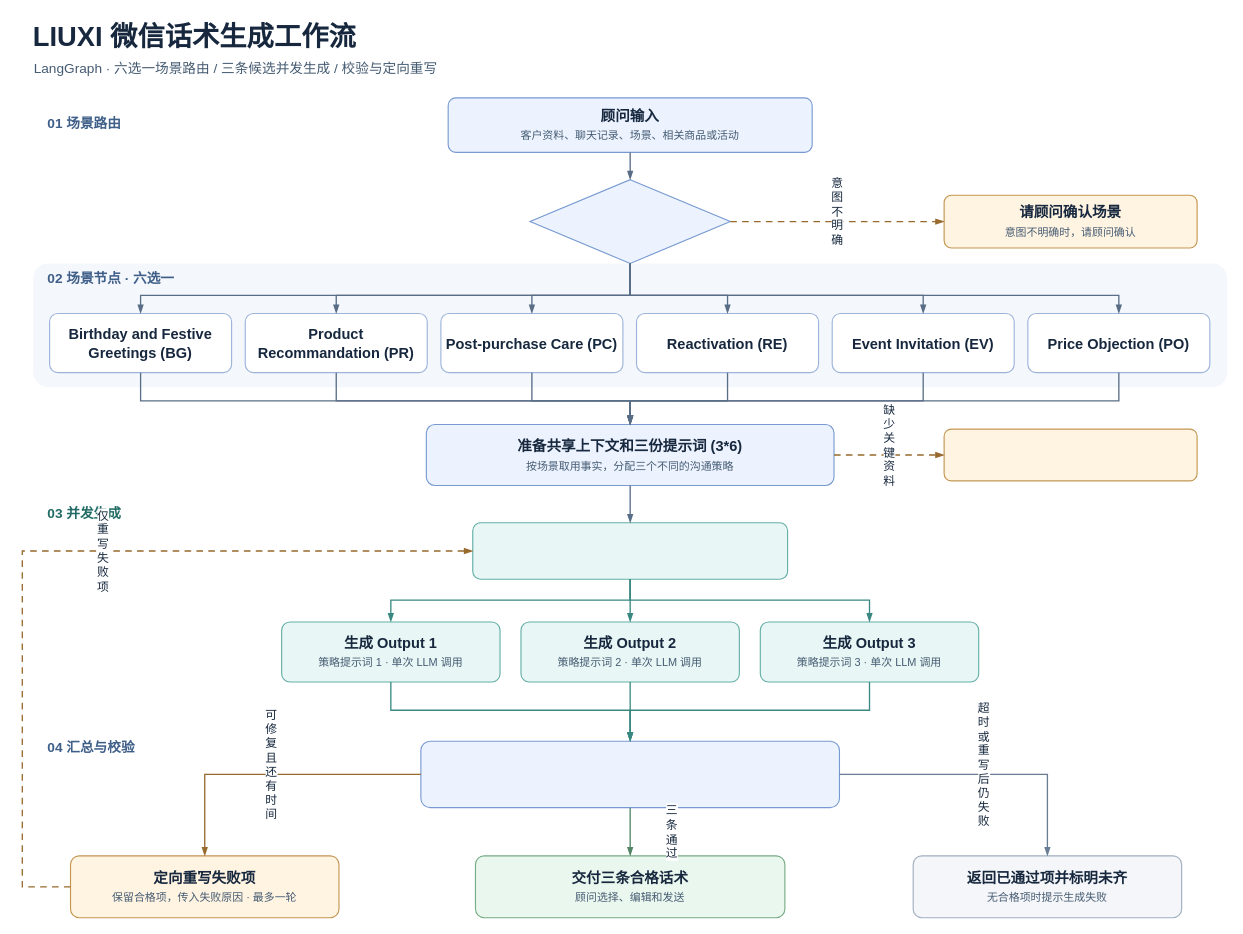
The diagram is 1243 pixels wide and 934 high, and some of its shapes have lost their labels. The centre of each missing label's shape, as x and y in pixels:
"分发待生成的选项 首次发送三个任务，重写时只发送失败项" belongs at (x=630, y=550).
"汇总并校验 按编号排序 · 查格式和事实 · 整组审阅与去重" belongs at (x=630, y=774).
"确认场景 优先用已选场景 未选时识别意图" belongs at (x=629, y=221).
"请顾问补充资料 例如补齐活动时间或更换已过期活动" belongs at (x=1070, y=454).
